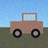vehicle: (10, 13, 43, 38)
